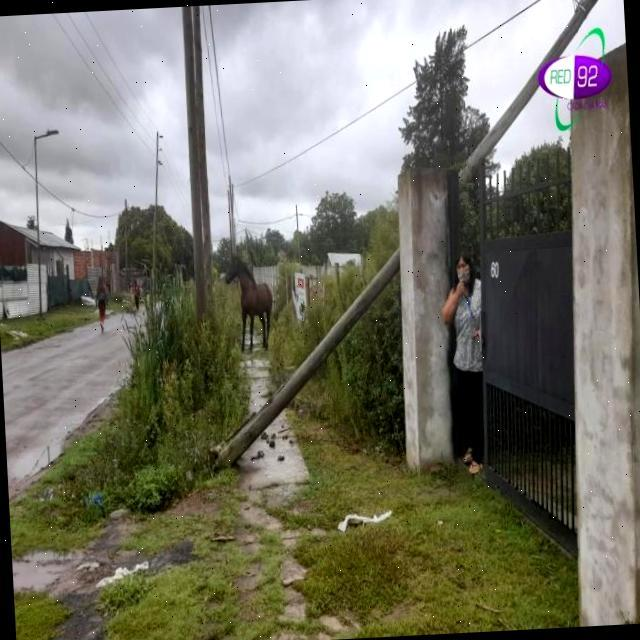Broken Pole: (215, 0, 599, 465)
